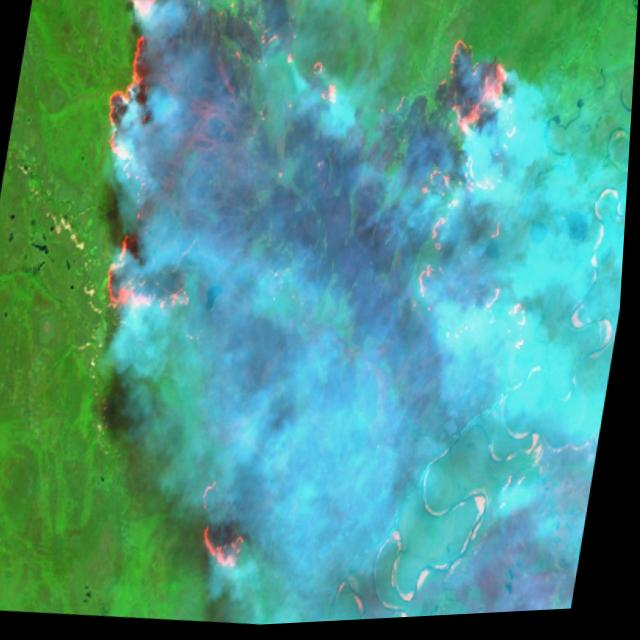fire: (21, 0, 590, 617)
